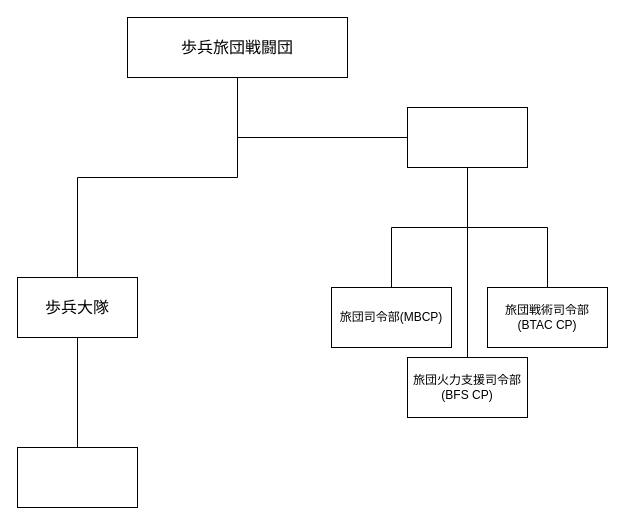
Image size: 625x525. Some labels were removed from this diagram. Here are the shapes that lost their labels. From the top down, the centre of each, then its label:
(x=467, y=137): 旅団司令部 及び本部中隊
(x=77, y=477): 歩兵中隊
